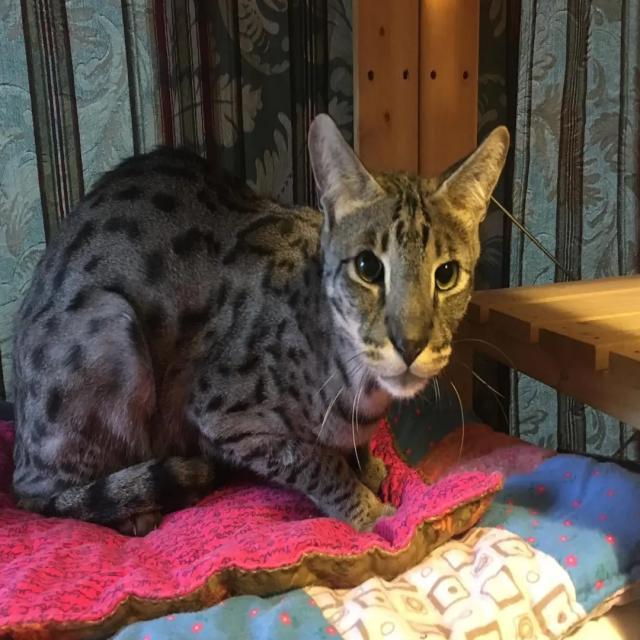Savannah: (5, 104, 515, 539)
